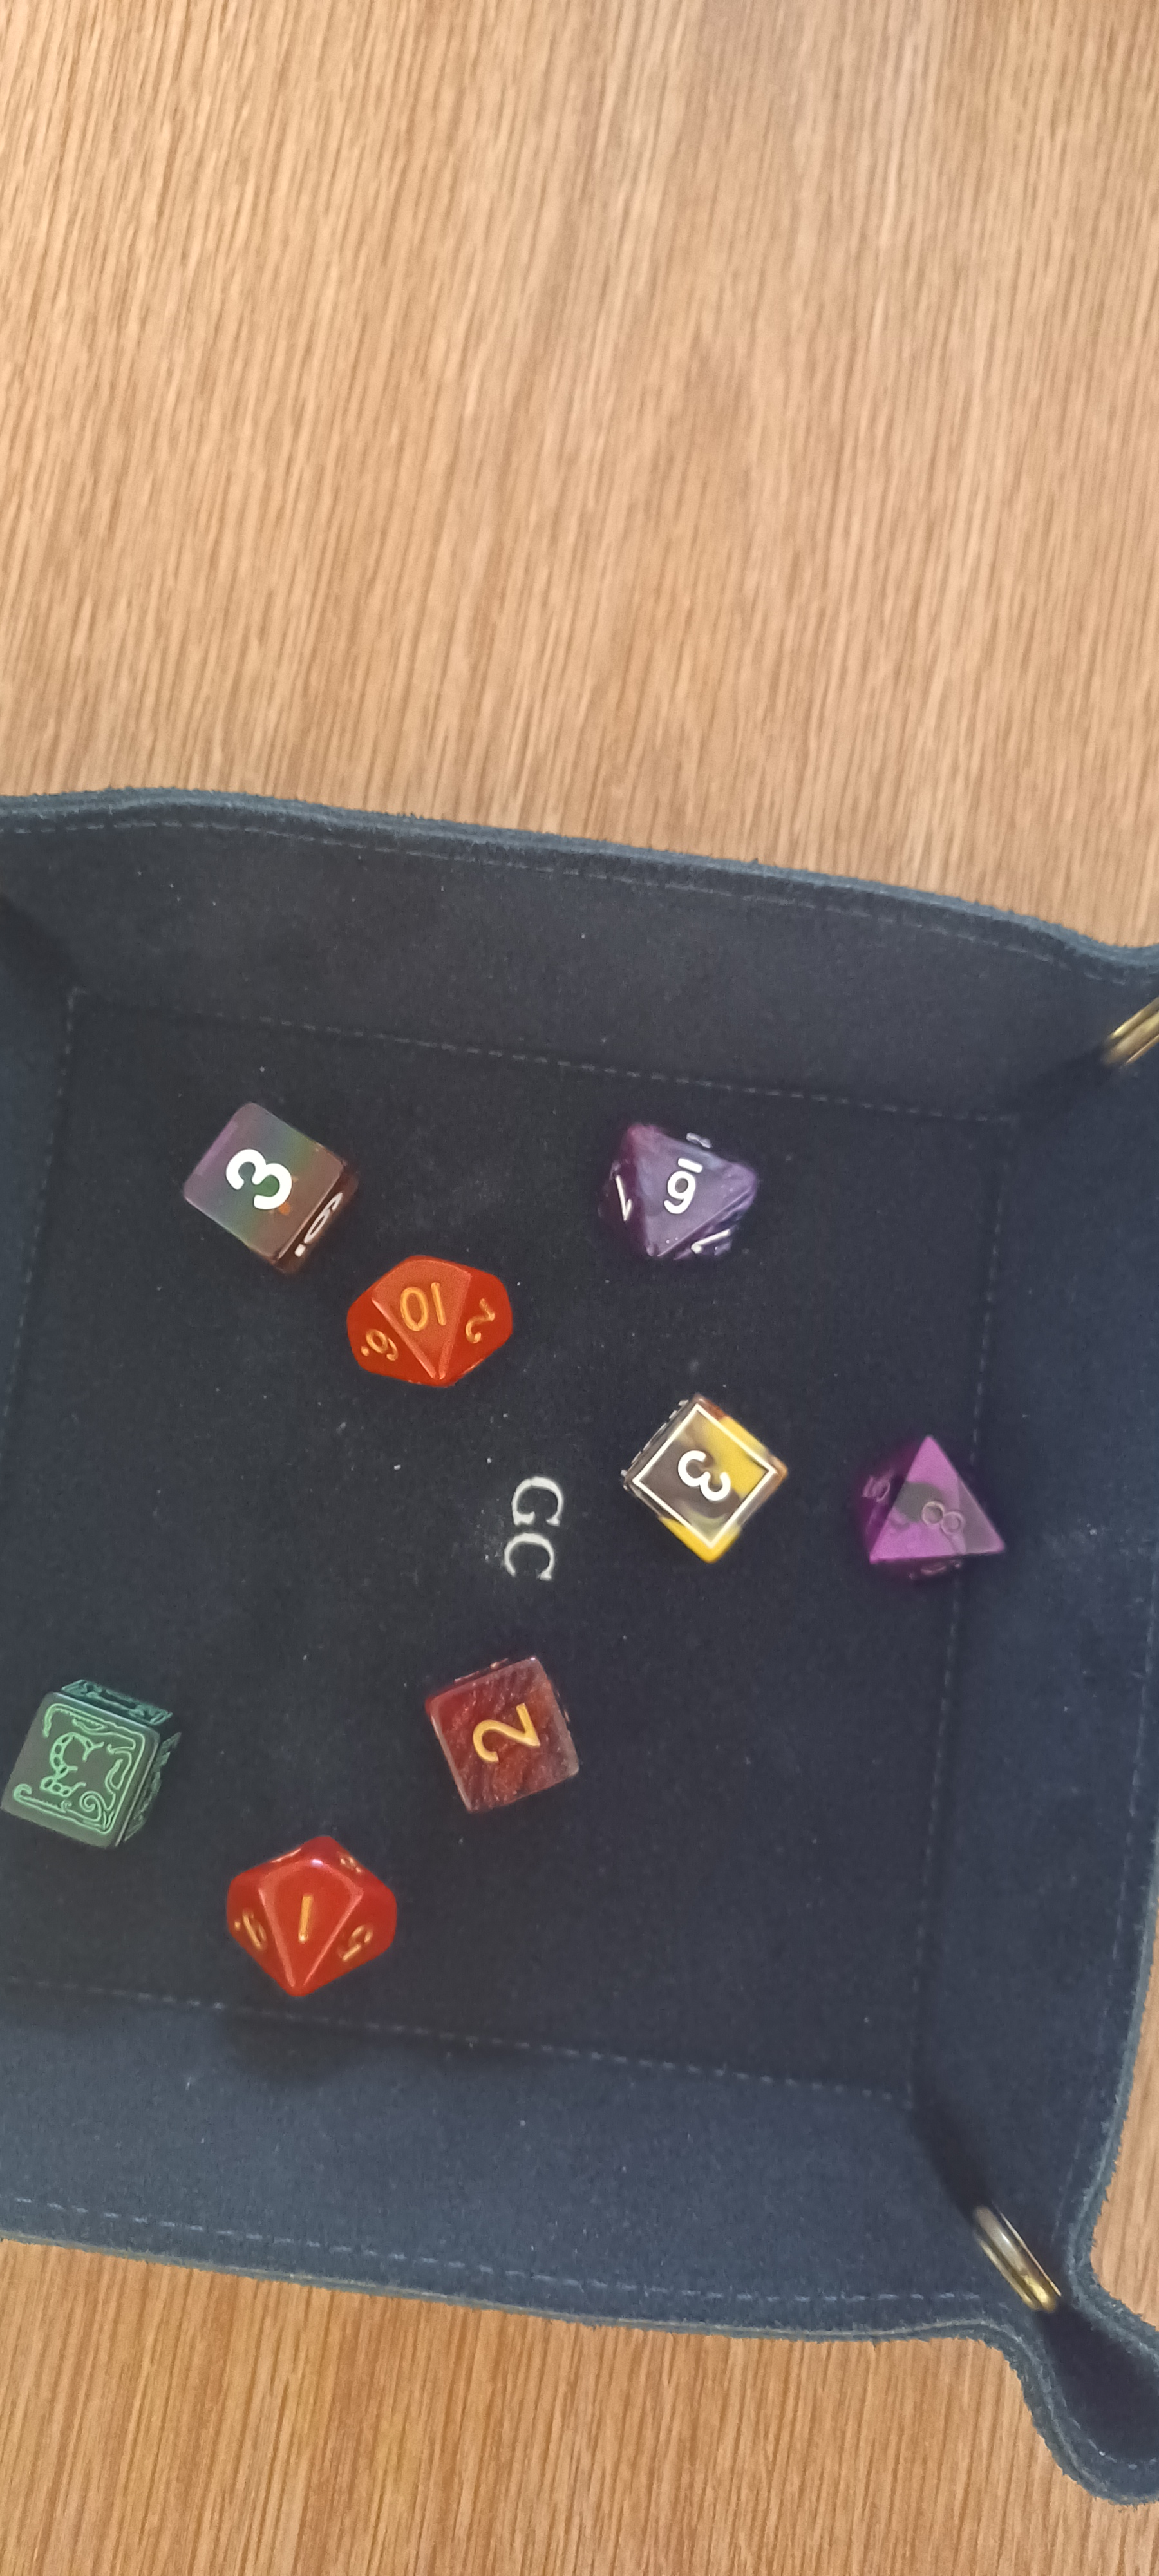eight: (832, 1396, 1031, 1615)
one: (200, 1810, 432, 2009)
six: (558, 1078, 801, 1313)
ten: (325, 1229, 535, 1400)
three: (135, 1066, 384, 1285), (589, 1365, 816, 1584), (3, 1635, 197, 1888)
two: (415, 1640, 614, 1830)
